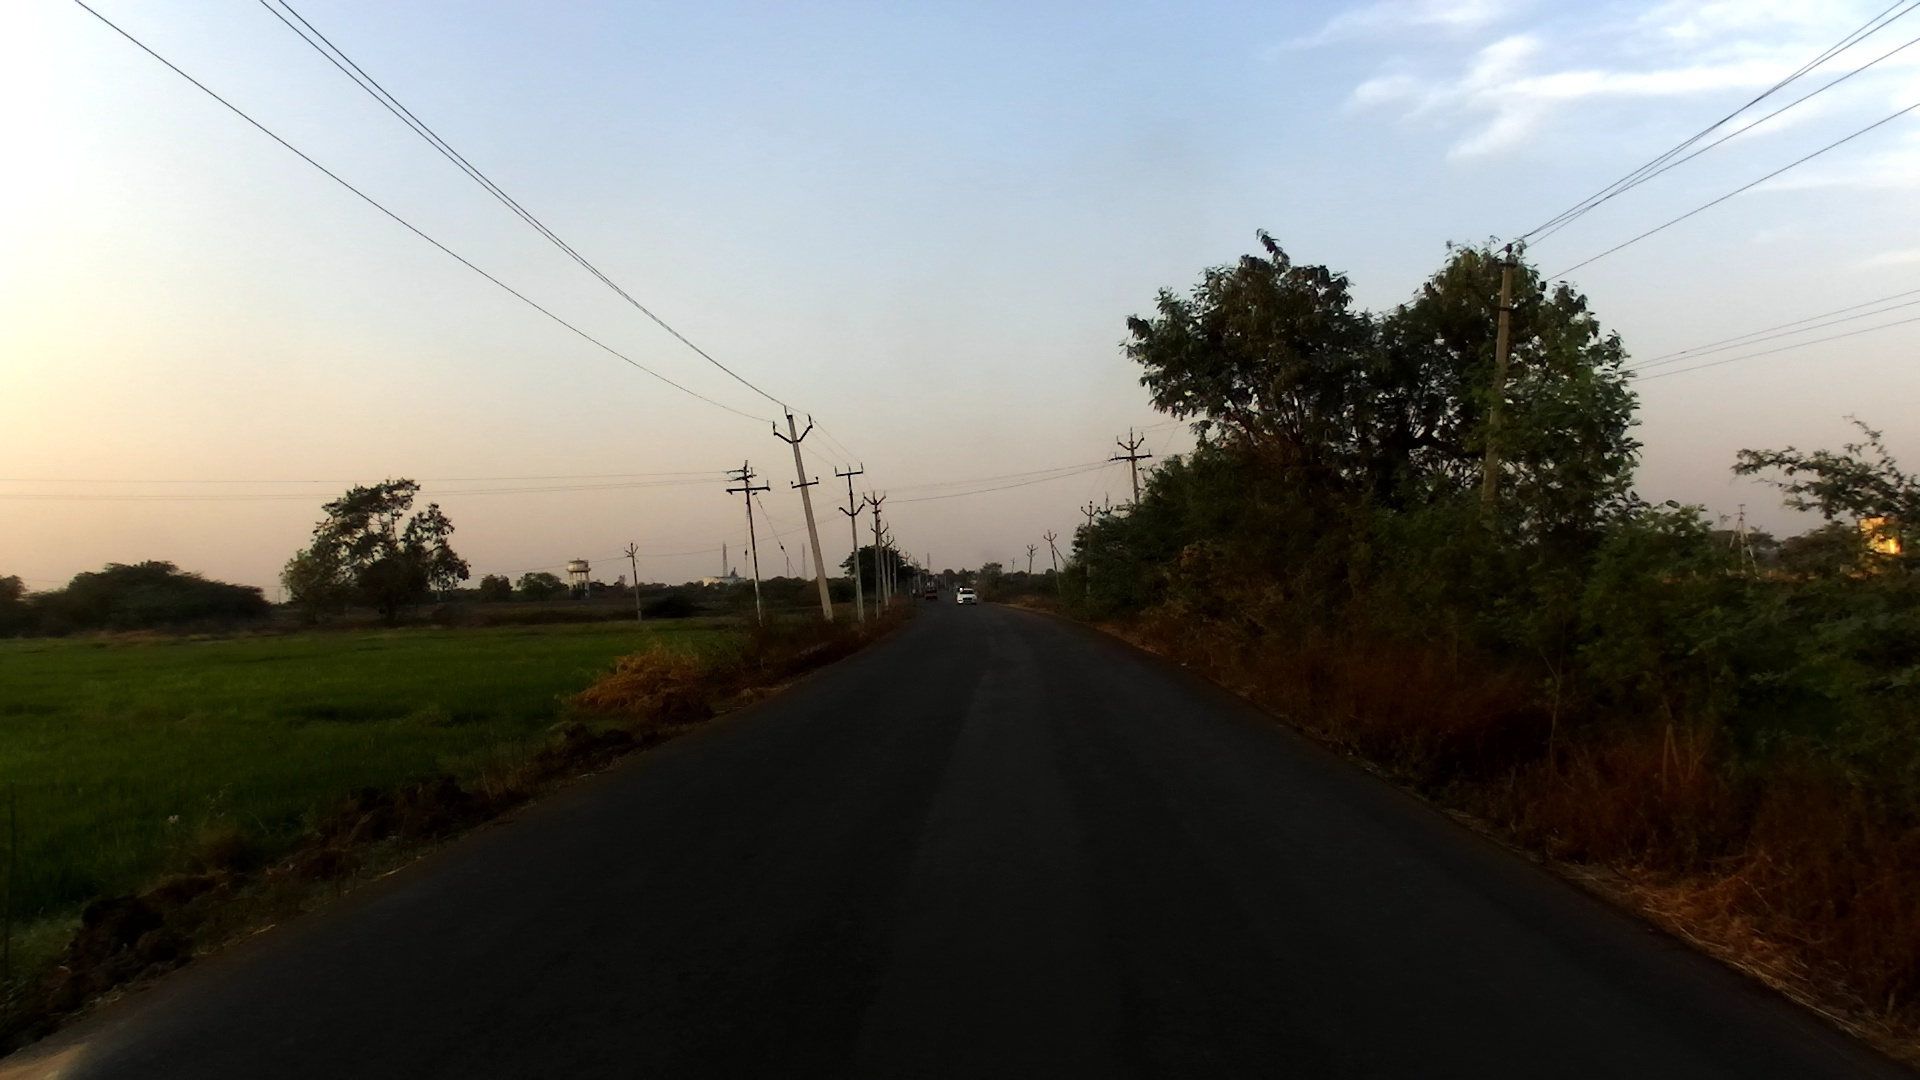autorickshaw: (923, 581, 939, 600)
car: (953, 588, 981, 607)
person: (912, 586, 918, 601)
